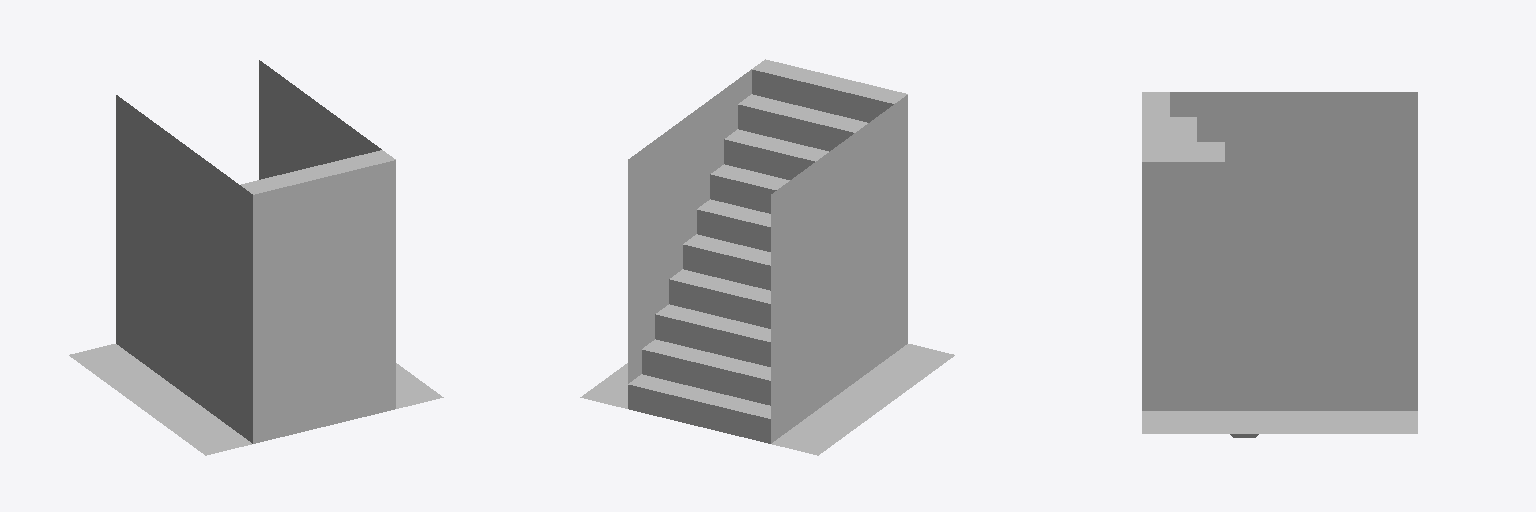
Rendered from upstairs_tech.obj.
3 views of the same model, side by side, from view 1: azimuth 30°, elevation 25°; view 2: azimuth 150°, elevation 25°; view 3: azimuth 270°, elevation 25° (orthographic).
Visible parts, largest first — view 1: Cube; view 2: Cube; view 3: Cube.
Part boxes in pixels (bbox=[...]): Cube: bbox=[69, 60, 443, 455]; Cube: bbox=[580, 59, 954, 455]; Cube: bbox=[1142, 92, 1417, 433].
Bounding box in the file's own units: 1 × 1.03 × 1.